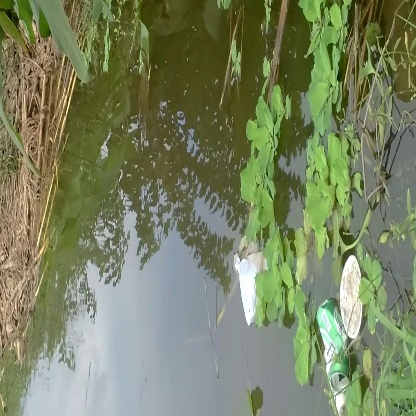bottle: (313, 293, 362, 391)
